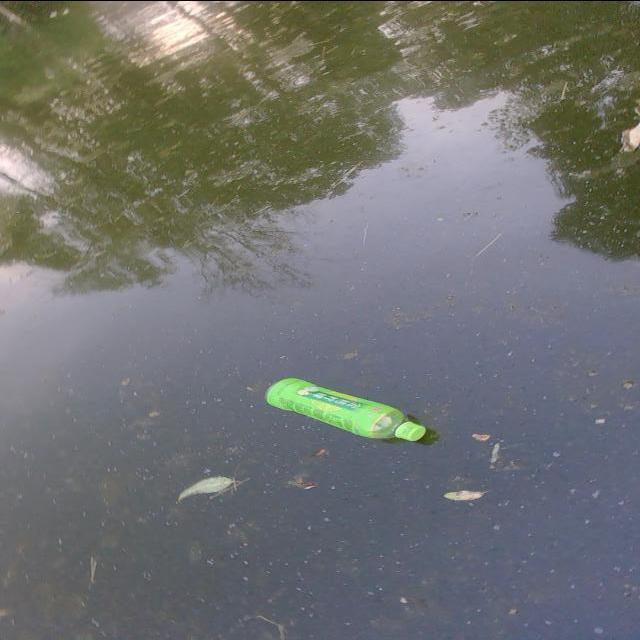Bottle: (258, 367, 432, 453)
